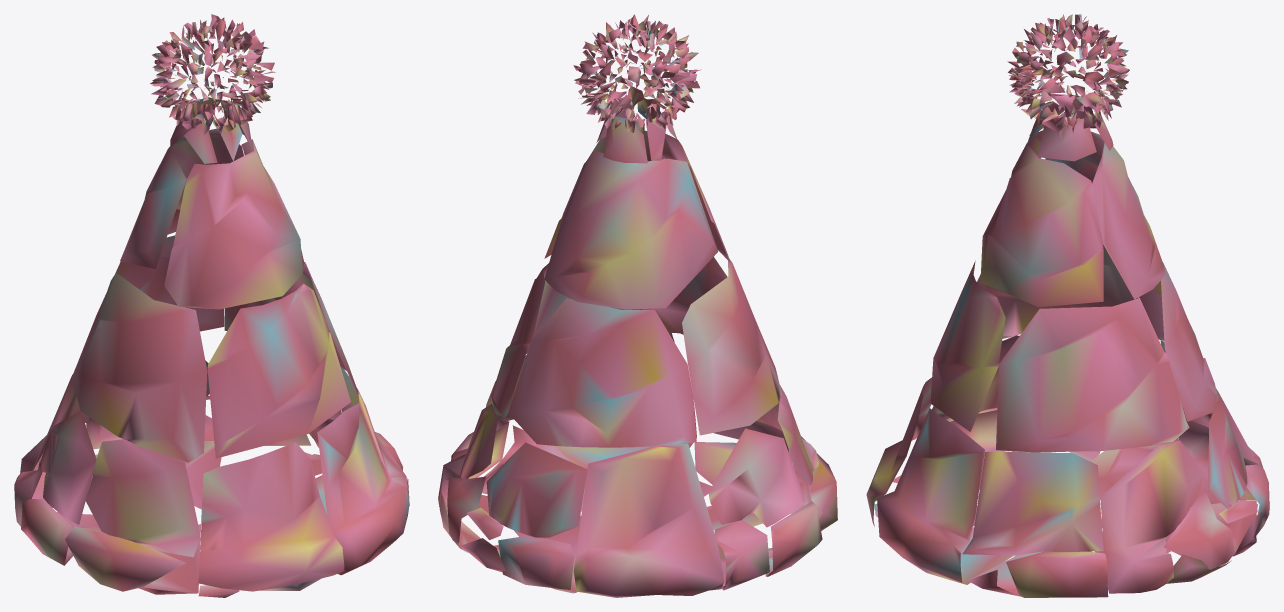
Rendered from party-cone.glb.
The picture shows the model from 3 angles, left to right: view 1: azimuth 30°, elevation 25°; view 2: azimuth 150°, elevation 25°; view 3: azimuth 270°, elevation 25°; orthographic projection.
Visible parts, largest first — view 1: SM_Hat_PartyCone; view 2: SM_Hat_PartyCone; view 3: SM_Hat_PartyCone.
Boxes of the visible parts, bbox=[...] form: SM_Hat_PartyCone: bbox=[14, 14, 409, 597]; SM_Hat_PartyCone: bbox=[438, 14, 837, 597]; SM_Hat_PartyCone: bbox=[866, 14, 1269, 597].
Size of the model in its own units: 0.1803 by 0.25 by 0.1807.
